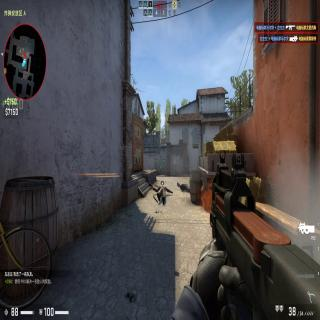T-Head: (177, 181, 180, 187), (161, 181, 164, 185)
